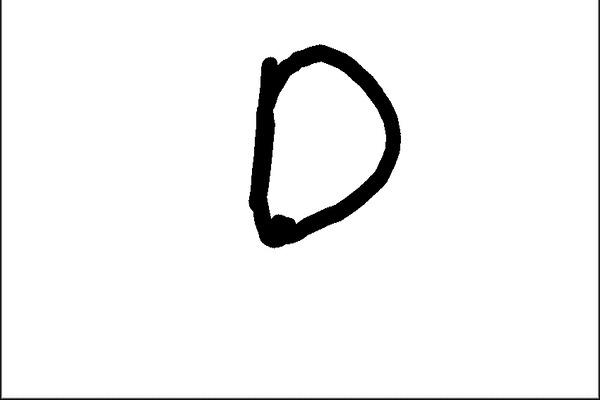D: (241, 33, 407, 261)
